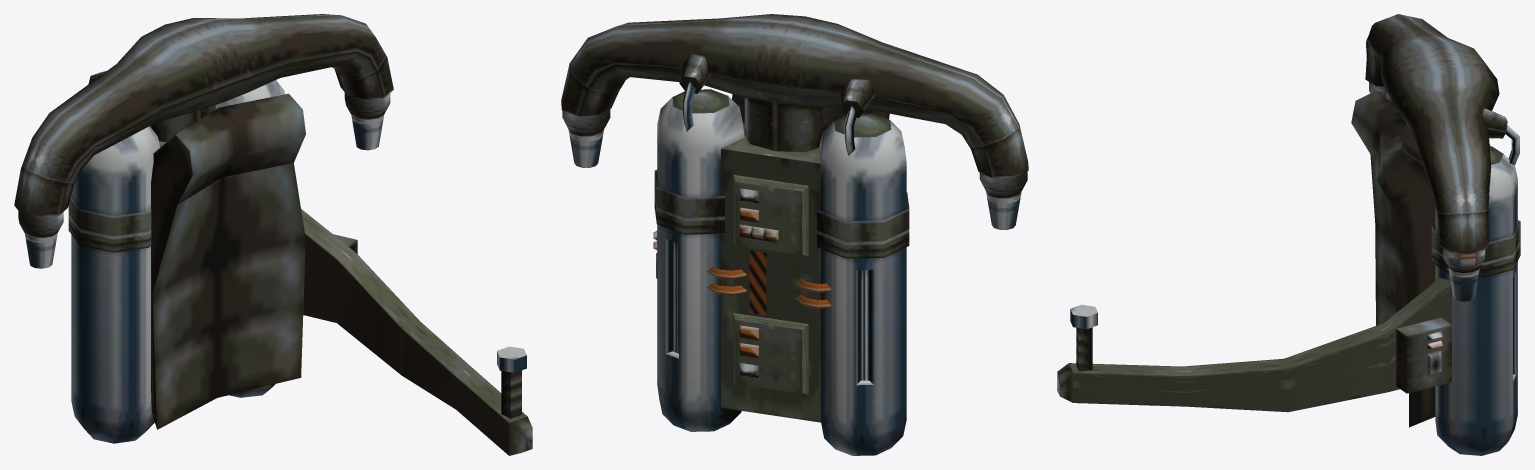
3 views of the same model, side by side, from view 1: azimuth 30°, elevation 25°; view 2: azimuth 150°, elevation 25°; view 3: azimuth 270°, elevation 25° (orthographic). The views are drawn at different scales.
Visible parts, largest first — view 1: jetpack, jetball1, jetball2; view 2: jetpack, jetball1, jetball2; view 3: jetpack, jetball1.
Part boxes in pixels (x1,y1,x2,y2): jetpack: (14,14,532,455); jetball1: (344,92,390,150); jetball2: (18,211,63,268); jetpack: (561,14,1028,455); jetball1: (562,109,610,167); jetball2: (979,171,1027,229); jetpack: (1057,14,1520,455); jetball1: (1443,248,1485,301).
Bounding box in the file's own units: 0.8528 × 0.7821 × 0.8947.
